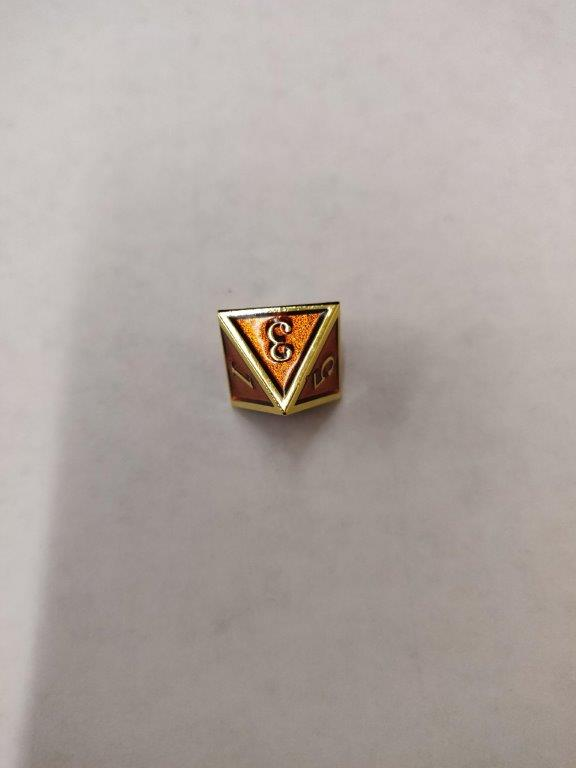d8-3: (216, 298, 347, 420)
